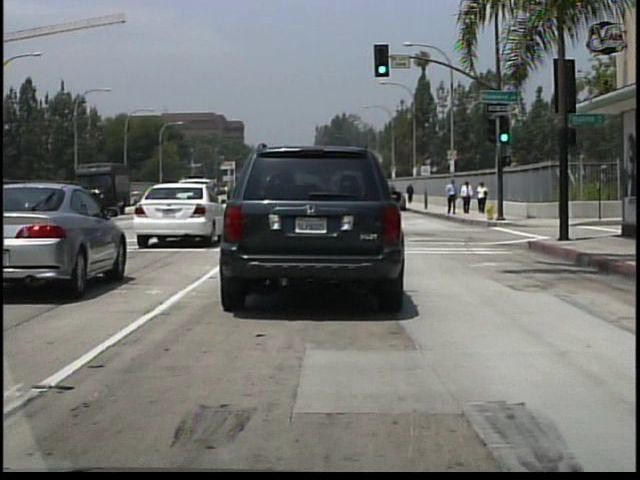person: (445, 178, 460, 218), (460, 181, 473, 216), (476, 181, 489, 215), (406, 183, 416, 205)
